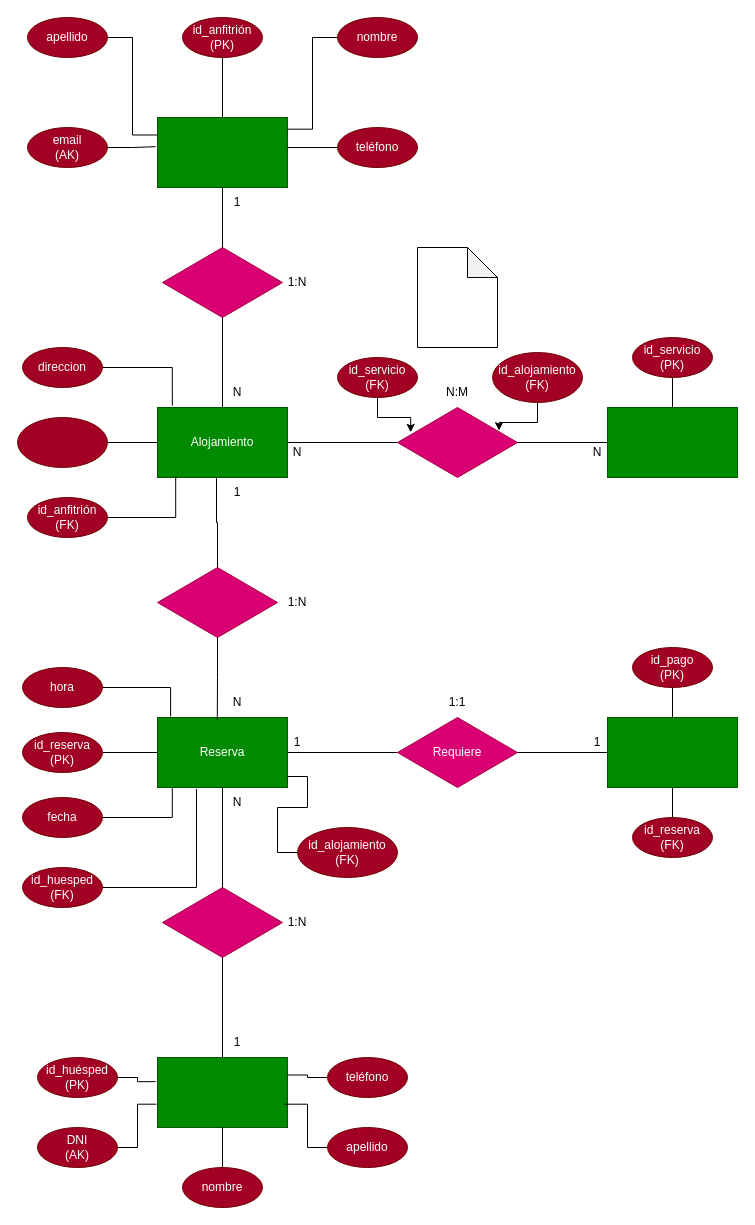
The diagram is 755 pixels wide and 1225 high, and some of its shapes have lost their labels. The shapes that lost their labels are listed below. From the top down, each one's box as (x1, y1, x2, y2) in pixels, then its label:
(156, 116, 288, 188): Anfitrión
(162, 246, 282, 318): Alquila
(416, 246, 498, 348): Se crea una tabla intermedia
(16, 416, 108, 468): id_alojamiento (PK)
(396, 406, 518, 478): Ofrece
(606, 406, 738, 478): Servicio
(156, 566, 278, 638): Obtiene
(606, 716, 738, 788): Pago
(162, 886, 282, 958): Realiza
(156, 1056, 288, 1128): Huésped
